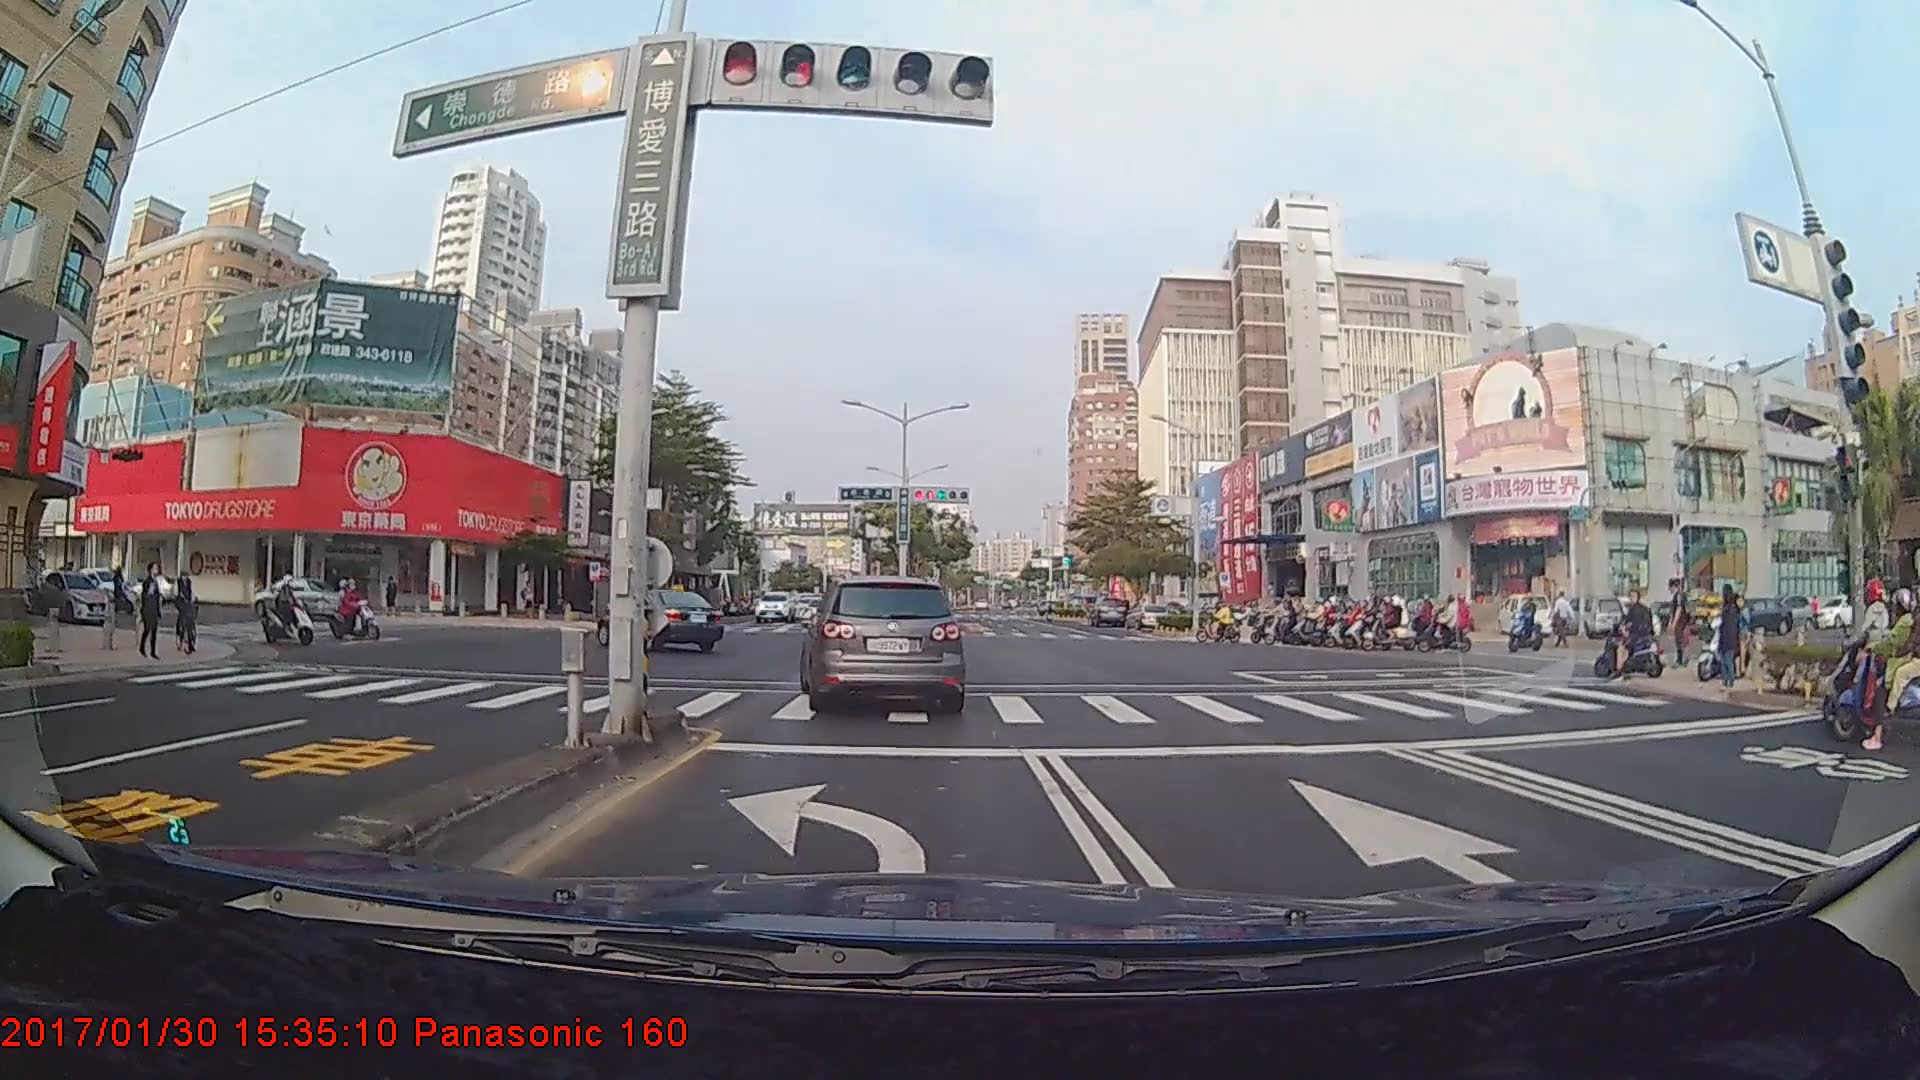pedestrian: (1711, 575, 1749, 697), (139, 567, 162, 665), (1670, 577, 1694, 670)
rider: (1837, 594, 1920, 758), (1817, 574, 1906, 728), (1690, 583, 1755, 687), (1599, 592, 1672, 680), (254, 572, 325, 652), (325, 578, 387, 642), (167, 566, 208, 658), (1420, 593, 1473, 657), (1501, 596, 1553, 652), (1245, 594, 1297, 643), (1375, 595, 1421, 650), (1343, 595, 1388, 644), (1196, 603, 1249, 645), (1322, 600, 1365, 647), (1334, 600, 1373, 645)
vehicle: (797, 573, 967, 718), (594, 589, 720, 654), (246, 578, 339, 620), (1088, 596, 1128, 629)
